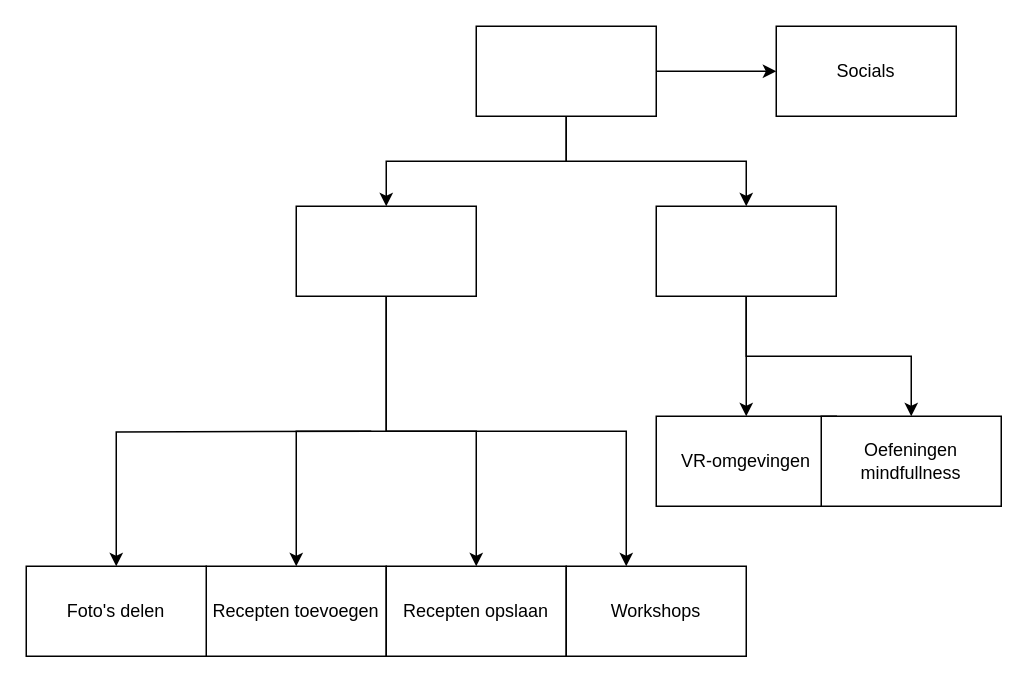
This 1028x683 diagram has some shape labels left out. The centre of each missing label's shape, as x and y in pixels:
"Food" goes at pixel 385 250.
"Hoofdpagina" goes at pixel 565 70.
"Nature" goes at pixel 745 250.
